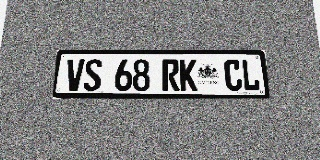6: (114, 59, 133, 91)
8: (132, 59, 150, 91)
C: (224, 59, 243, 91)
K: (180, 59, 197, 91)
L: (241, 59, 260, 91)
R: (162, 59, 180, 91)
S: (83, 59, 102, 91)
V: (65, 59, 85, 91)
